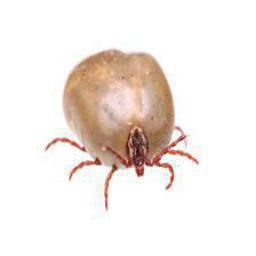Dermacentor variabilis: (46, 47, 201, 212)
